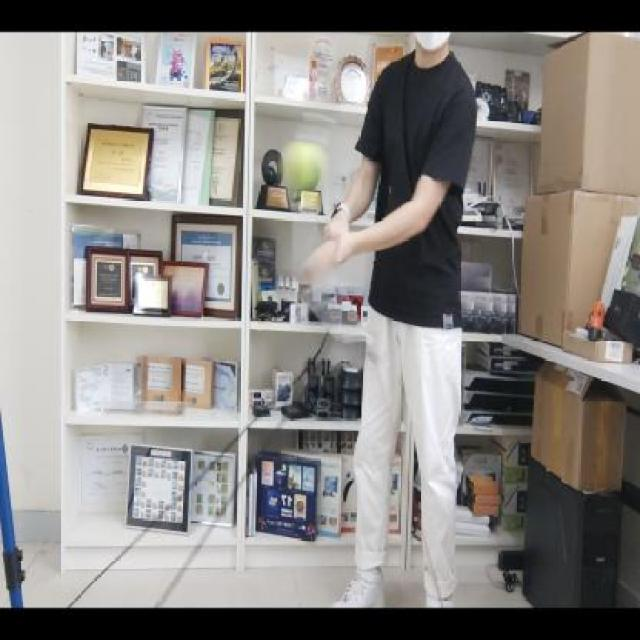baseball: (281, 135, 327, 196)
